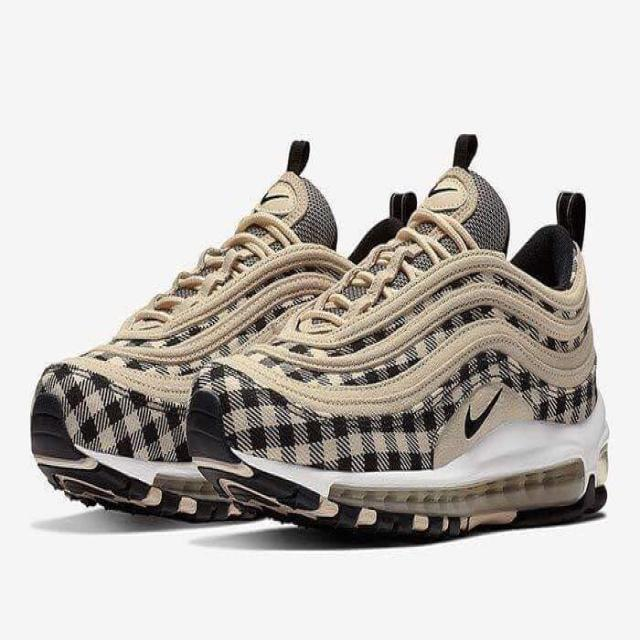shoe: (187, 197, 618, 531), (25, 152, 322, 530)
